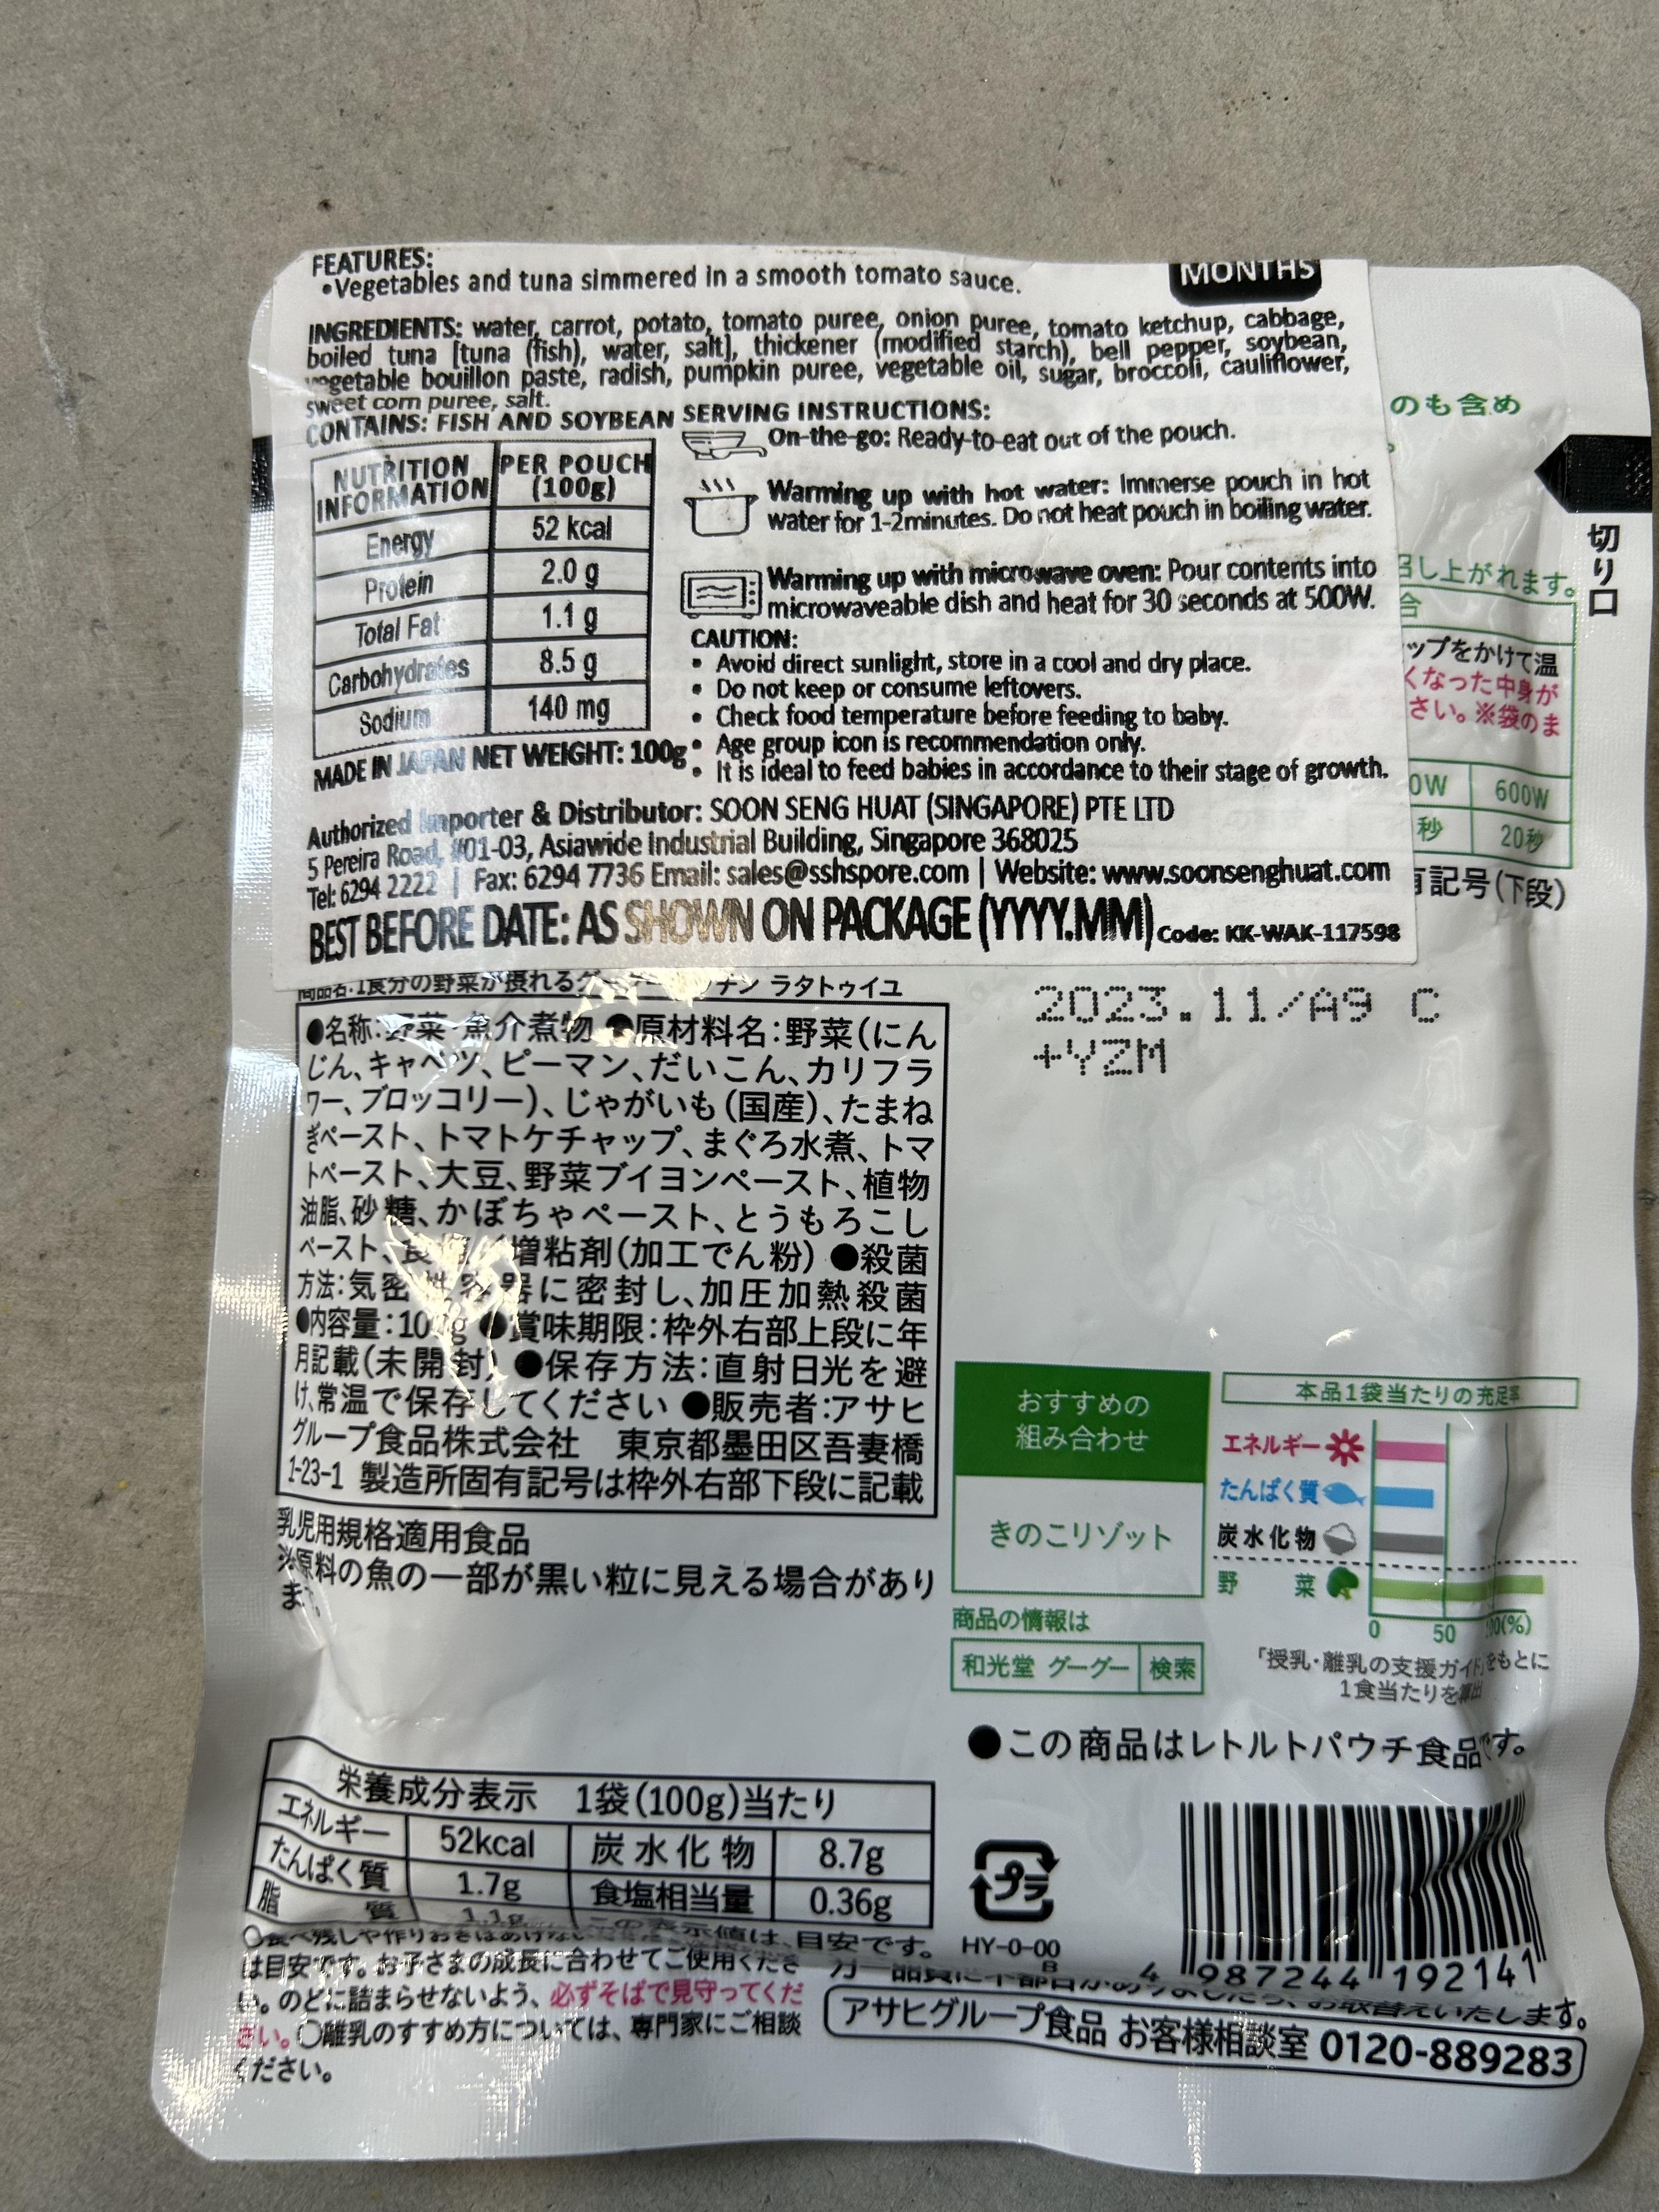object_name: (277, 244, 1588, 2139)
